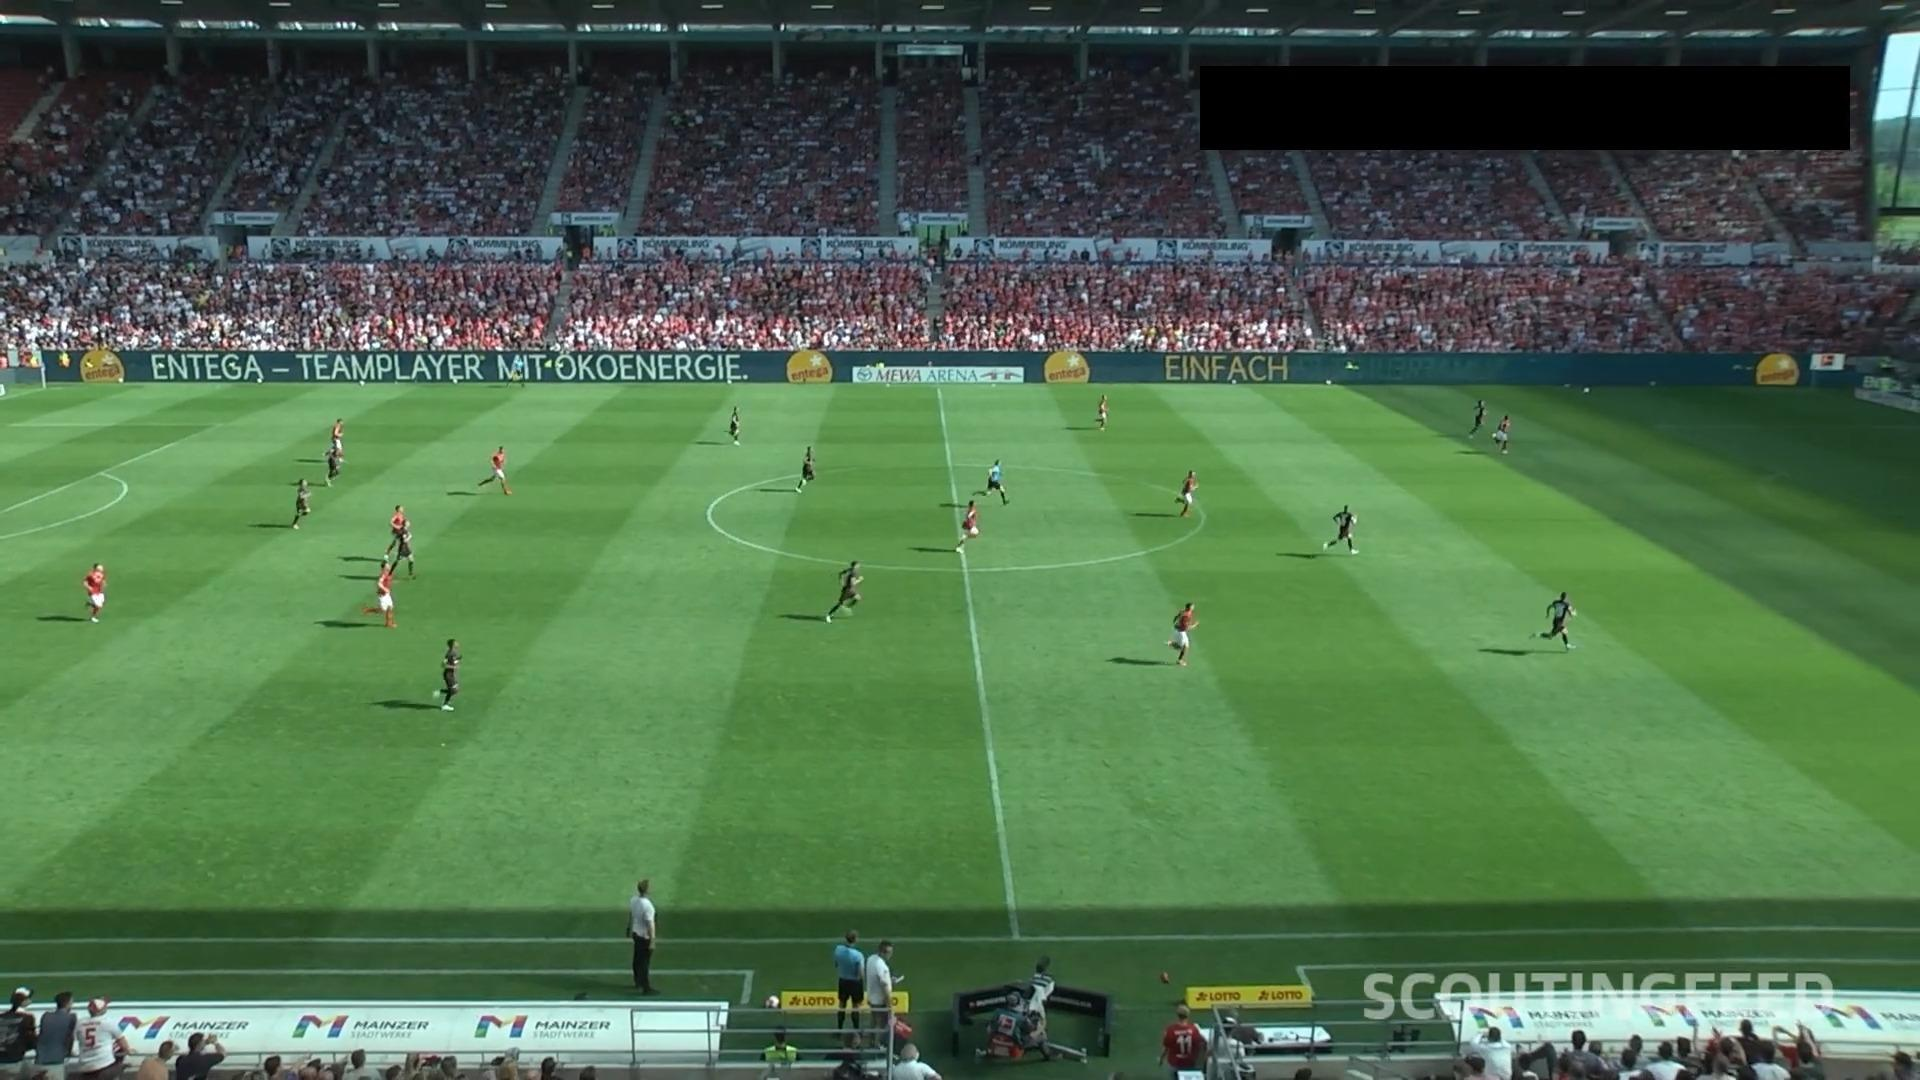ball: (1582, 386, 1590, 393)
